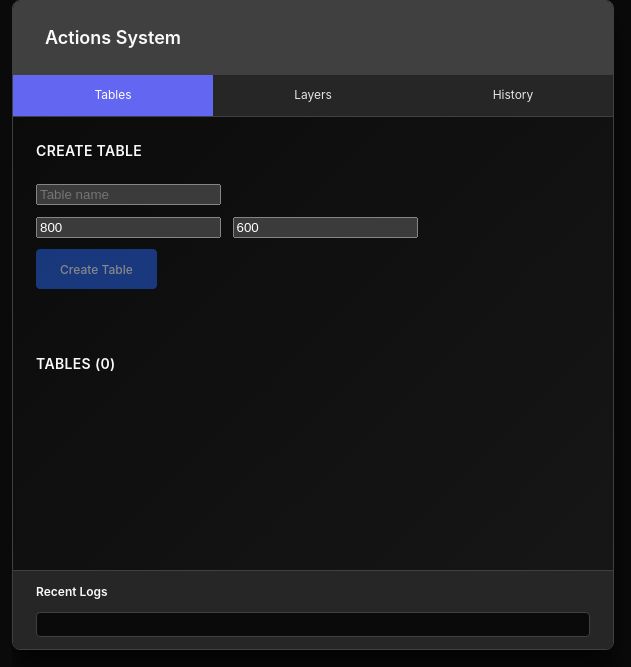
Test: ActionsPanel — History tab › renders action history entries
Step 1. Click the button "History" → {"x": 513, "y": 96}, box [413,75,613,116]
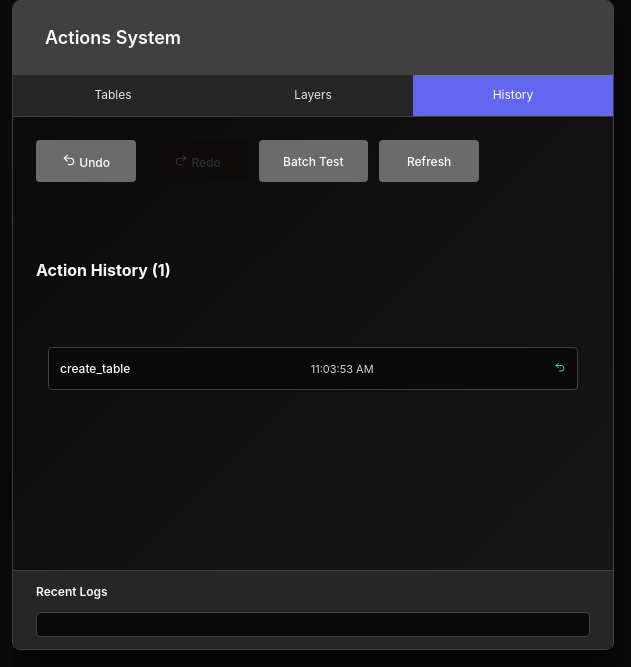
Now the text "create_table" is shown, box [60,360,130,378]
